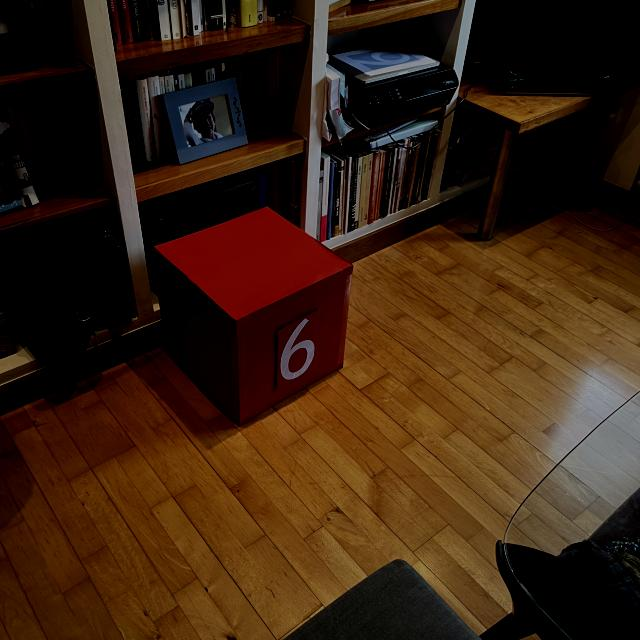box: (149, 204, 355, 427)
